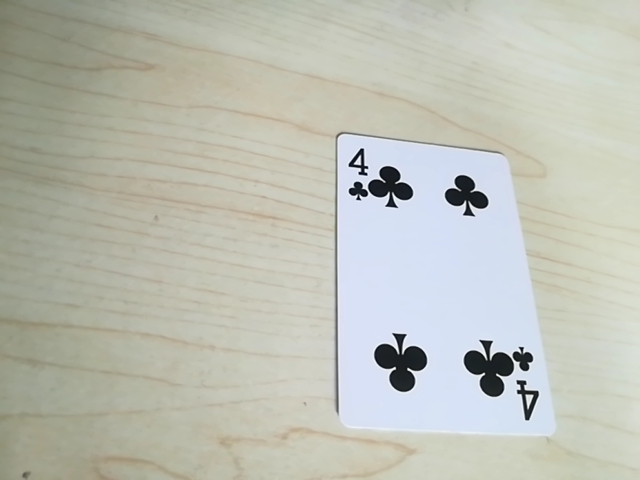mh 4: (506, 343, 539, 422), (340, 143, 378, 210)
